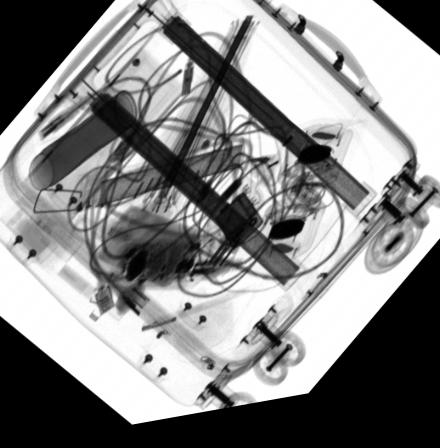Lighter: (213, 199, 264, 257)
